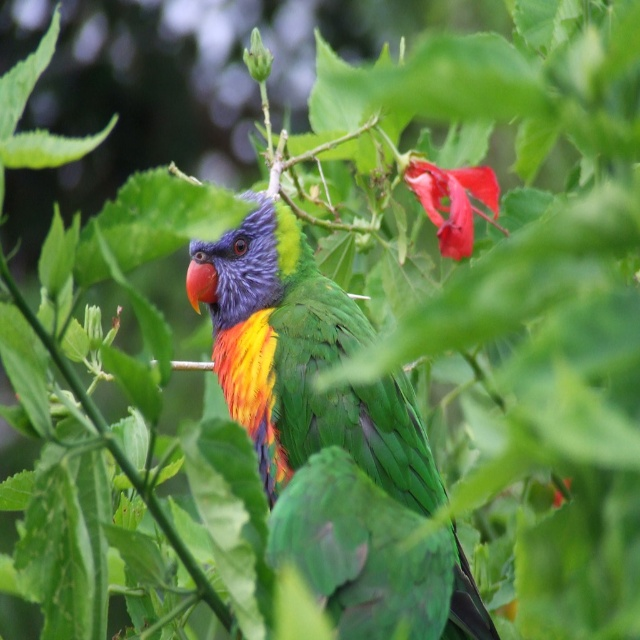Parrot: (184, 189, 503, 639)
